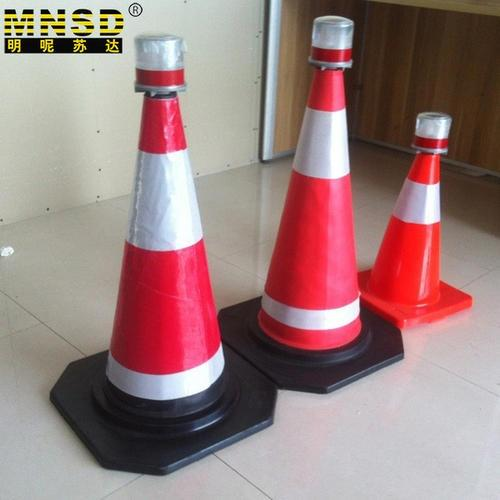cone_barrel: (92, 54, 237, 436), (255, 29, 373, 367), (366, 113, 461, 325)
